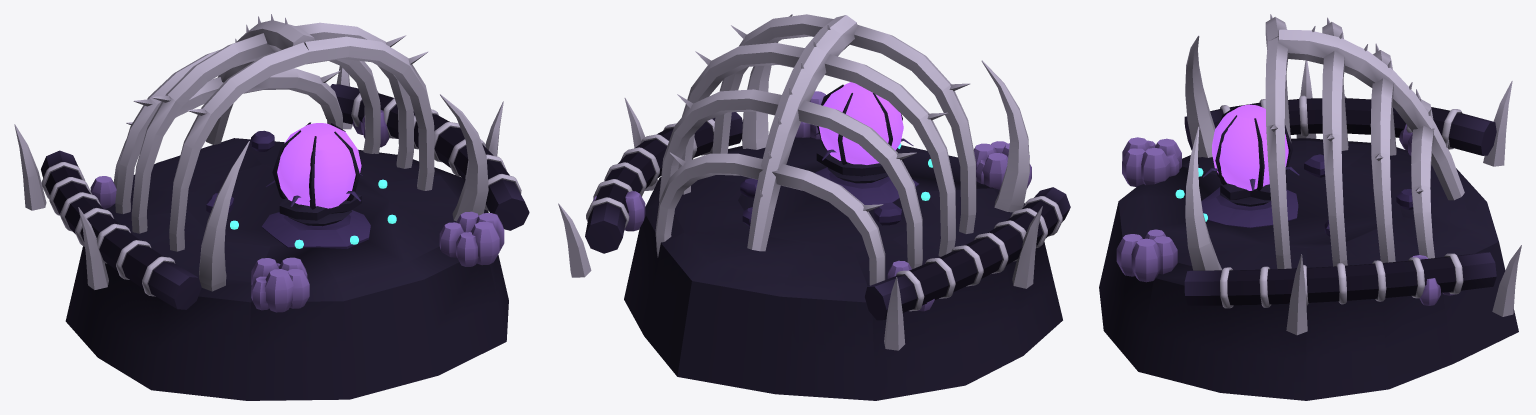
Rendered from brood-hive-nacre.glb.
The picture shows the model from 3 angles, left to right: view 1: azimuth 30°, elevation 25°; view 2: azimuth 150°, elevation 25°; view 3: azimuth 270°, elevation 25°; orthographic projection. The views are drawn at different scales.
Visible parts, largest first — view 1: site_brood_hive_nacre_body, site_brood_hive_nacre_core, site_brood_hive_nacre_ruin; view 2: site_brood_hive_nacre_body, site_brood_hive_nacre_core, site_brood_hive_nacre_ruin; view 3: site_brood_hive_nacre_body, site_brood_hive_nacre_core, site_brood_hive_nacre_ruin.
Part boxes in pixels (x1,y1,x2,y2): site_brood_hive_nacre_body: (14,14,529,400); site_brood_hive_nacre_core: (272,122,361,209); site_brood_hive_nacre_ruin: (266,174,362,220); site_brood_hive_nacre_body: (558,14,1070,400); site_brood_hive_nacre_core: (817,82,903,164); site_brood_hive_nacre_ruin: (814,132,913,176); site_brood_hive_nacre_body: (1099,14,1521,400); site_brood_hive_nacre_core: (1212,103,1292,191); site_brood_hive_nacre_ruin: (1203,166,1299,200).
Size of the model in its own units: 5.11 by 3.34 by 4.52.
